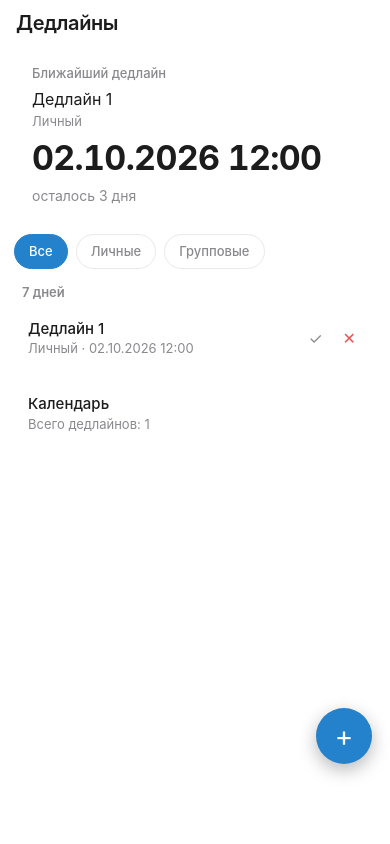
Test: DeadlinesScreen: действия из списка › FAB «+» открывает форму создания
What coordinates should you click on to do the following:
click the button with test id "fab-add"
I would click on:
 (344, 736)
Its box is [316,708,372,764].
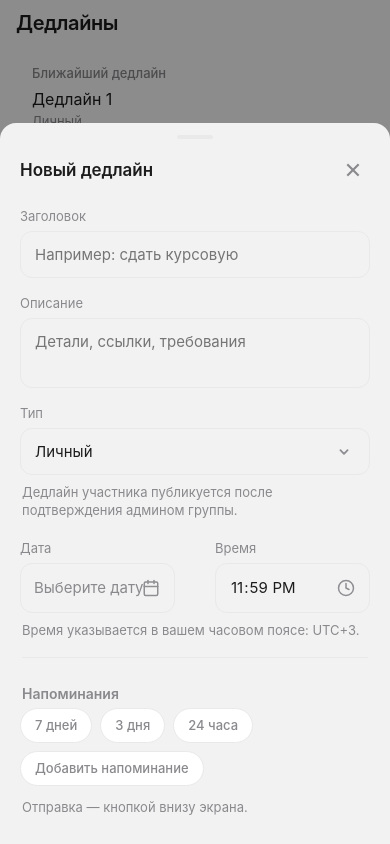
Expected: the element with test id "deadline-sheet" is shown
Expected: the text "Новый дедлайн" is shown, [20,158,153,182]
